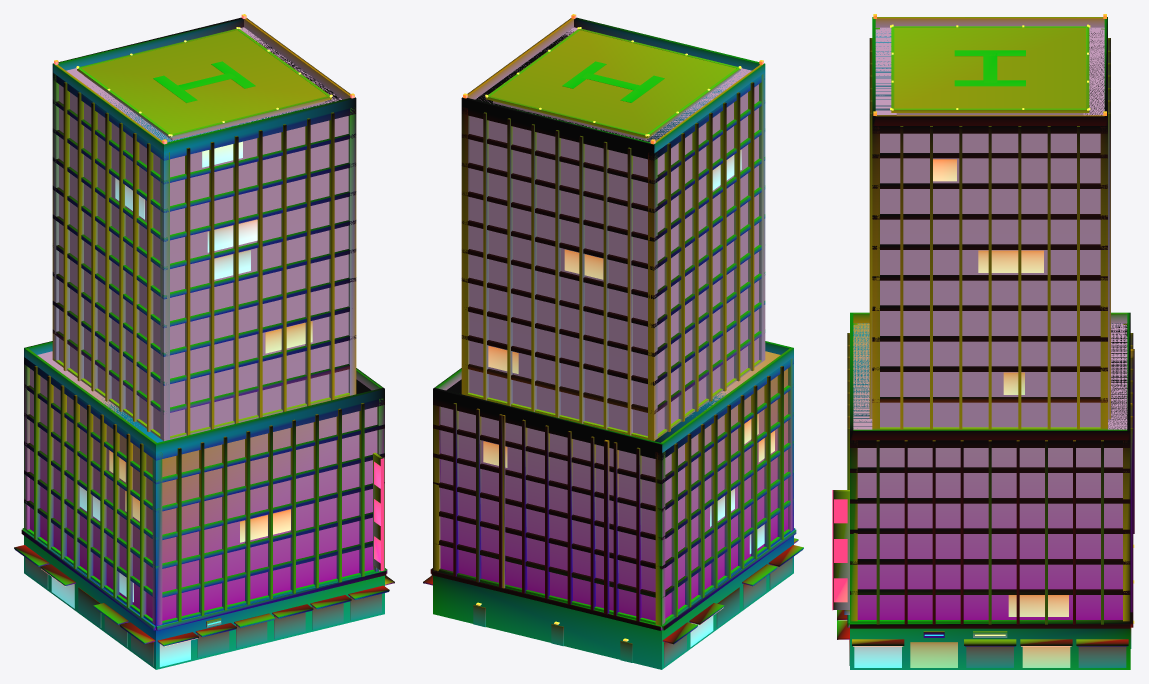
File: Tower_Pad.fbx
3 renders of one model, left to right at view 1: azimuth 30°, elevation 25°; view 2: azimuth 150°, elevation 25°; view 3: azimuth 270°, elevation 25°, orthographic. The views are drawn at different scales.
Parts seen in each view (by area): view 1: Tower_Pad_LOD0; view 2: Tower_Pad_LOD0; view 3: Tower_Pad_LOD0.
Part boxes in pixels (box(x1,y1,x2,y2)): Tower_Pad_LOD0: box(14, 14, 394, 669); Tower_Pad_LOD0: box(423, 14, 803, 669); Tower_Pad_LOD0: box(832, 14, 1134, 669).
Size of what is drawn, in the model's own units: 32.8 by 64.6 by 32.31.
